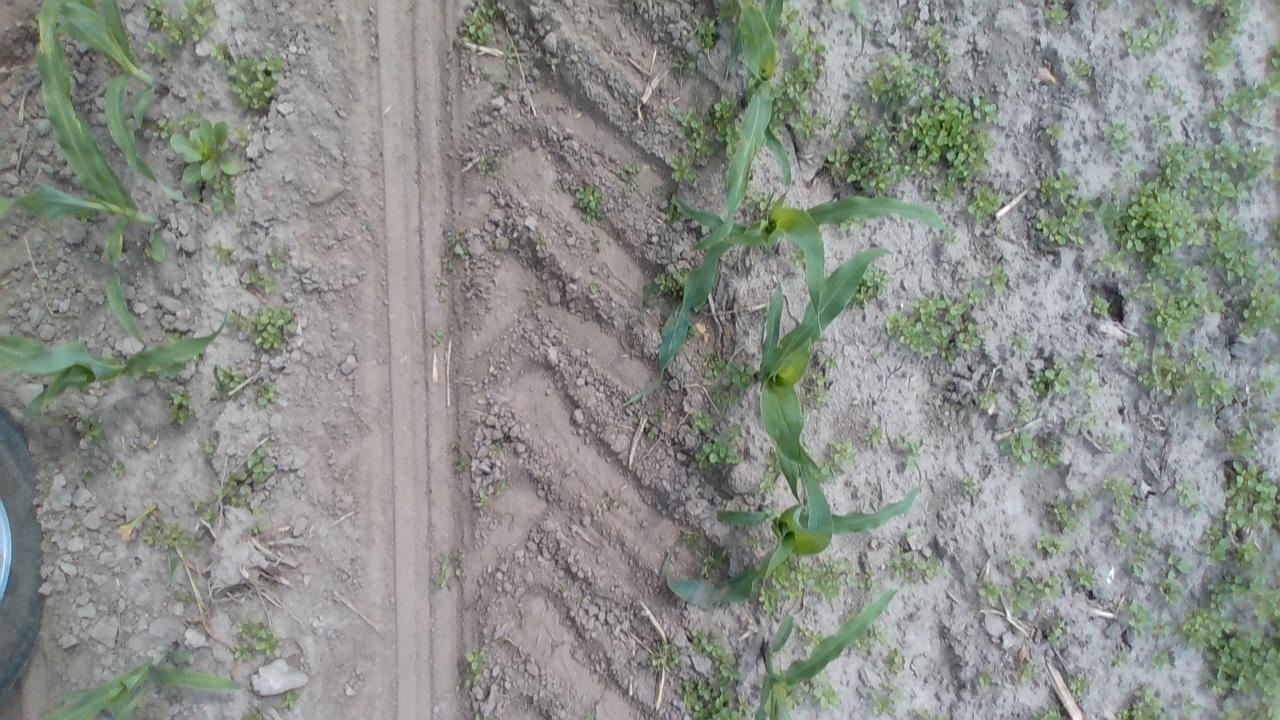Maize: (640, 188, 954, 402), (2, 1, 173, 346), (756, 241, 896, 502), (655, 476, 929, 604), (43, 0, 179, 188), (3, 310, 232, 420), (754, 589, 900, 720), (709, 1, 788, 238), (40, 645, 248, 718), (115, 498, 196, 594), (845, 0, 868, 58)
Weeds: (896, 87, 999, 205), (192, 444, 288, 540), (1158, 139, 1280, 213), (1184, 615, 1280, 709), (1107, 174, 1208, 262), (1212, 214, 1274, 334), (886, 293, 986, 363), (1145, 271, 1224, 341), (172, 120, 245, 185), (836, 124, 900, 196), (776, 65, 828, 142), (1223, 459, 1275, 528), (228, 51, 286, 112), (1209, 572, 1275, 622), (678, 678, 753, 720), (689, 627, 747, 681), (867, 55, 924, 103), (1188, 350, 1235, 408), (1110, 496, 1152, 554), (1138, 352, 1184, 397), (251, 306, 297, 351), (1154, 552, 1192, 604), (233, 620, 280, 662), (172, 0, 216, 44), (1116, 686, 1170, 719), (1202, 28, 1241, 71), (673, 106, 708, 153), (494, 40, 521, 100), (1222, 84, 1268, 119), (1073, 349, 1097, 416), (460, 4, 498, 46), (1196, 524, 1234, 566), (1041, 212, 1087, 245), (806, 562, 848, 598), (806, 675, 848, 711), (695, 432, 739, 466), (649, 636, 686, 676), (854, 266, 890, 306), (1002, 430, 1036, 470), (651, 182, 681, 226), (1036, 169, 1077, 201), (1100, 118, 1135, 154), (1114, 331, 1143, 373), (822, 440, 854, 478), (1226, 427, 1260, 462), (711, 380, 752, 409), (432, 552, 463, 590), (574, 183, 604, 222), (240, 266, 283, 293), (1047, 0, 1076, 40), (1174, 478, 1203, 518), (1038, 366, 1074, 398), (1124, 22, 1160, 54), (476, 475, 507, 512), (974, 573, 1002, 613), (800, 373, 830, 410), (1128, 598, 1152, 644), (1048, 497, 1082, 529), (1146, 106, 1176, 142), (924, 24, 952, 62), (967, 186, 999, 218), (742, 530, 774, 562), (910, 550, 940, 584), (1062, 672, 1097, 701), (1008, 578, 1038, 611), (790, 33, 828, 58), (872, 680, 898, 716), (756, 460, 780, 499), (1024, 700, 1070, 720), (1040, 120, 1068, 152), (614, 160, 641, 193), (1033, 573, 1062, 603), (212, 180, 240, 211), (696, 549, 728, 576), (212, 234, 236, 270), (462, 649, 484, 688), (981, 263, 1010, 292), (1033, 530, 1068, 554), (636, 282, 660, 317), (444, 227, 471, 258), (1154, 0, 1174, 41), (712, 119, 739, 149), (742, 190, 768, 221), (694, 16, 716, 52), (216, 366, 244, 394), (672, 523, 702, 549), (1102, 476, 1133, 501), (200, 432, 226, 461), (1004, 333, 1034, 358), (145, 0, 168, 32), (965, 670, 1000, 691), (1122, 270, 1143, 305), (451, 441, 472, 476), (1106, 647, 1134, 673), (654, 271, 684, 295), (1252, 370, 1276, 400), (854, 570, 882, 595), (170, 390, 190, 424), (1202, 96, 1222, 130), (1036, 441, 1062, 467), (1267, 42, 1280, 94), (1070, 563, 1096, 589), (899, 437, 924, 464), (712, 94, 737, 120), (889, 550, 914, 576), (865, 622, 890, 648), (1064, 416, 1100, 434), (1045, 614, 1065, 646), (1224, 0, 1253, 22), (780, 4, 801, 34), (1152, 644, 1176, 670), (670, 156, 694, 182), (105, 458, 132, 480), (1130, 548, 1150, 577), (845, 105, 871, 127), (212, 38, 234, 63), (485, 436, 506, 462), (760, 584, 780, 611), (1016, 658, 1036, 685), (840, 216, 870, 234), (691, 411, 714, 434), (882, 648, 904, 672), (80, 419, 104, 441), (146, 519, 163, 550), (704, 353, 724, 379), (642, 418, 662, 444), (959, 474, 979, 500), (1100, 435, 1127, 454), (1171, 84, 1190, 111), (1070, 57, 1092, 80), (894, 526, 917, 548), (671, 56, 696, 76), (1244, 398, 1266, 420), (162, 528, 185, 549), (529, 229, 550, 252), (728, 364, 752, 384), (784, 688, 804, 712), (818, 352, 838, 376), (136, 703, 164, 720), (230, 306, 248, 332), (786, 248, 806, 271), (258, 382, 275, 408), (146, 39, 166, 61), (976, 392, 998, 412), (1007, 554, 1031, 572), (478, 154, 499, 174), (238, 706, 268, 720), (180, 109, 200, 130), (798, 628, 821, 646), (1016, 400, 1036, 420), (268, 248, 286, 270), (581, 700, 600, 720), (172, 584, 193, 602), (1092, 296, 1110, 316), (594, 495, 618, 510), (1152, 617, 1172, 635), (430, 270, 451, 287), (236, 127, 253, 148), (914, 709, 946, 720), (941, 222, 957, 244), (866, 426, 884, 445), (1144, 75, 1163, 93), (156, 120, 173, 140), (557, 574, 571, 598), (596, 670, 614, 688), (478, 62, 492, 84), (430, 330, 444, 352), (81, 468, 98, 486), (282, 691, 298, 710), (901, 11, 917, 29), (438, 254, 456, 270), (586, 279, 604, 294), (650, 404, 669, 418), (184, 194, 203, 208), (193, 86, 207, 105), (850, 638, 866, 654), (1263, 354, 1280, 369), (513, 608, 526, 627), (66, 523, 85, 536), (543, 54, 556, 71), (494, 631, 506, 648), (233, 218, 250, 230), (574, 590, 584, 609)
